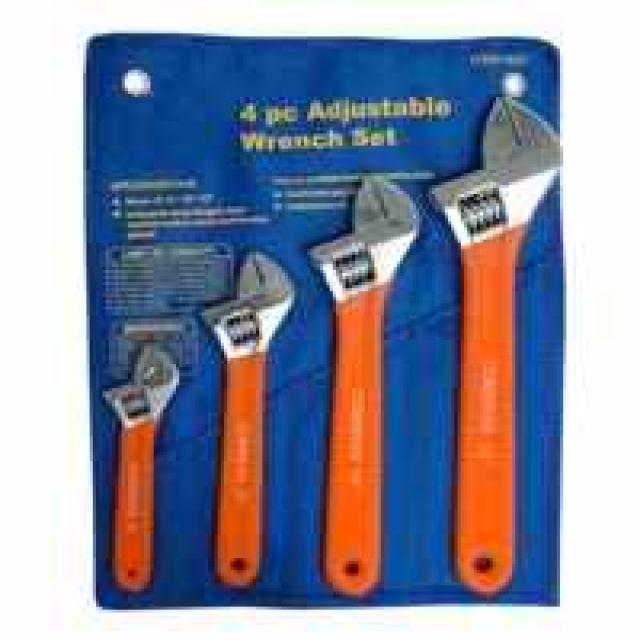wrench: (411, 91, 572, 618), (300, 167, 416, 589), (176, 245, 302, 605), (101, 338, 182, 602)
